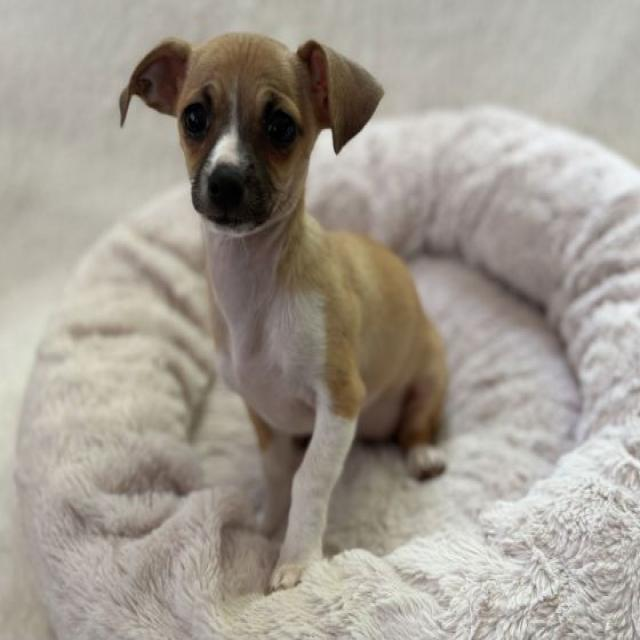chihuahua_dog: (108, 23, 389, 244)
